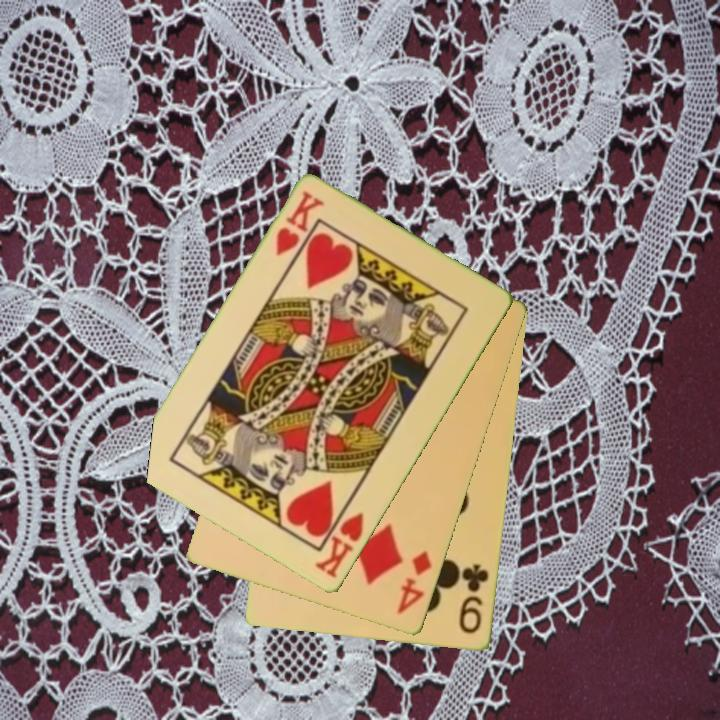4d: (393, 548, 435, 618)
9c: (455, 561, 492, 637)
Kh: (311, 498, 367, 582), (272, 188, 328, 260)
